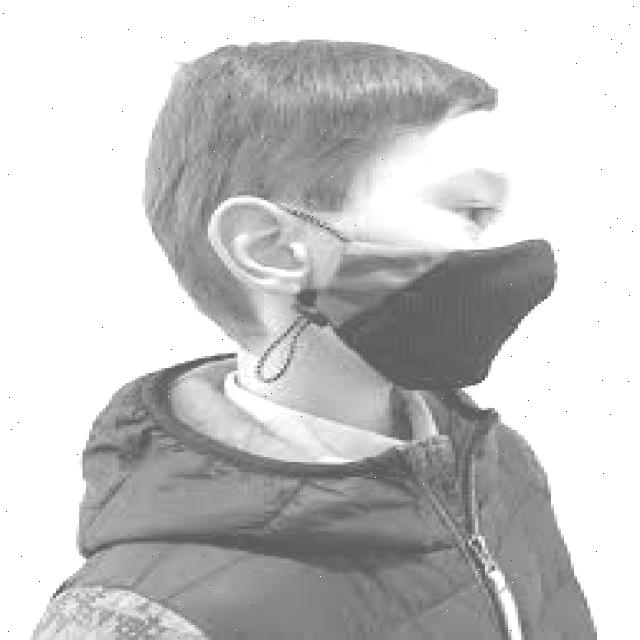fake: (254, 186, 640, 406)
real: (315, 108, 566, 409)
